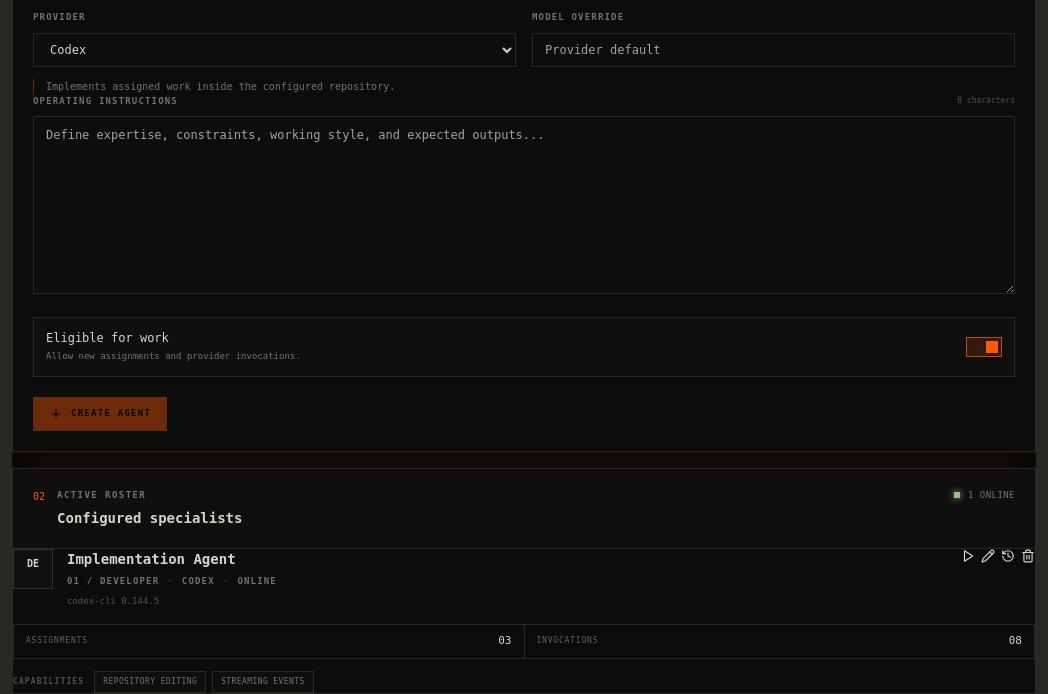
Test case: AgentsPage › tests an agent and opens its retained invocation history
(page scrolled)
What coordinates should you click on to do the following:
click the button named "Test agent"
I would click on:
 (968, 556)
Its box is [961, 549, 975, 563].
(page scrolled)
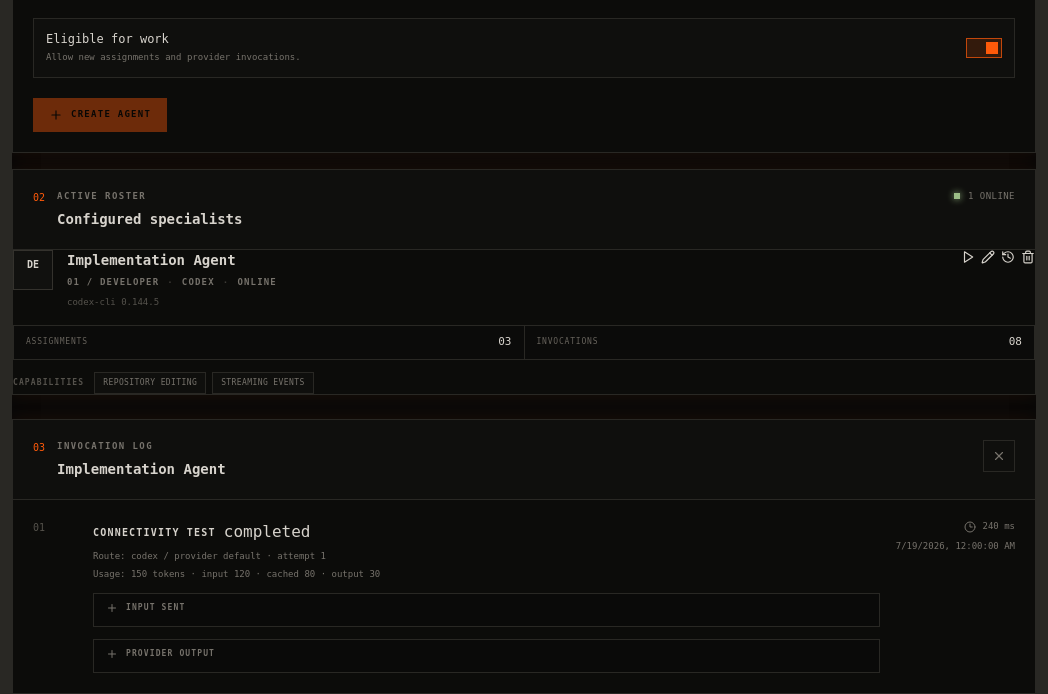
Check: the text "Invocation log" is shown, box [57, 440, 153, 450]
What coordinates should you click on to do the following:
click the heading "Provider output"
I would click on:
 (160, 654)
Its box is [106, 648, 215, 660].
(page scrolled)
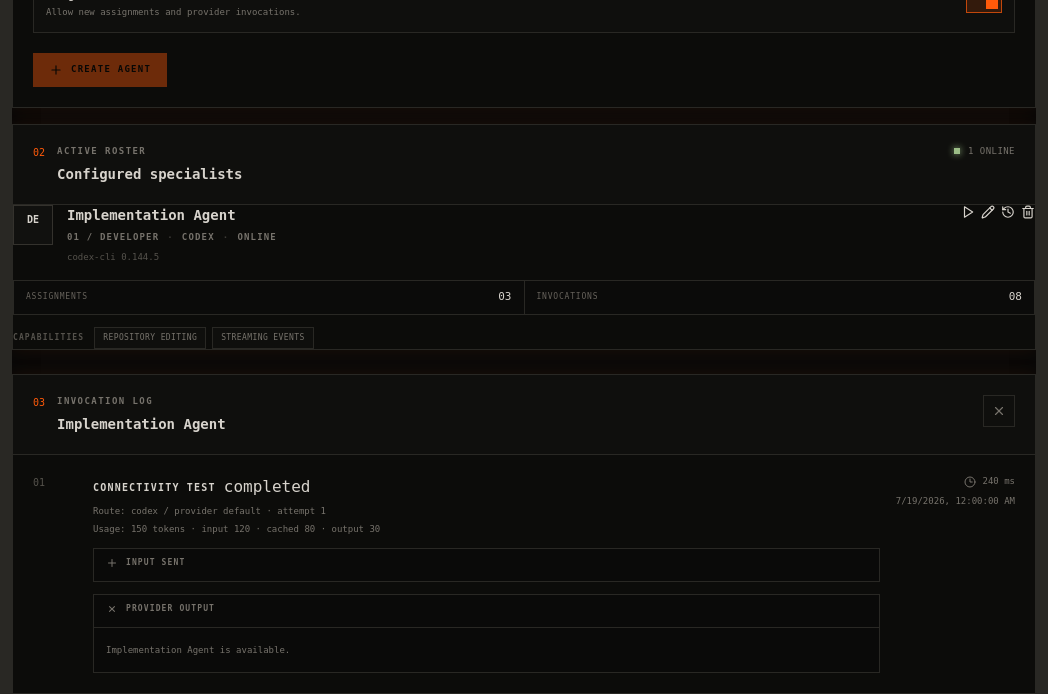
Check: the text "Implementation Agent is available." is shown, box [94, 627, 879, 672]
